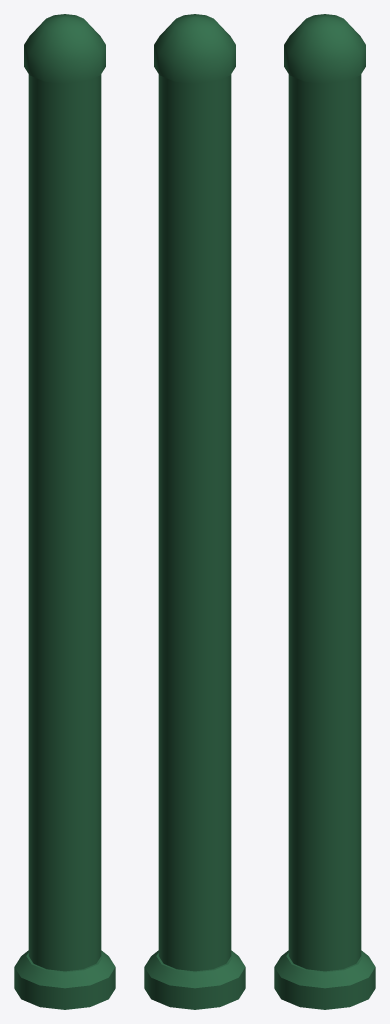
Rendered from pedestrian_railing_endpost_green.fbx.
3 views of the same model, side by side, from view 1: azimuth 90°, elevation 25°; view 2: azimuth 150°, elevation 25°; view 3: azimuth 270°, elevation 25° (orthographic).
Visible parts, largest first — view 1: pedestrian_railing_endpost_green; view 2: pedestrian_railing_endpost_green; view 3: pedestrian_railing_endpost_green.
Boxes of the visible parts, x1=… form: pedestrian_railing_endpost_green: x1=14, y1=14, x2=115, y2=1009; pedestrian_railing_endpost_green: x1=144, y1=14, x2=245, y2=1009; pedestrian_railing_endpost_green: x1=274, y1=14, x2=375, y2=1009.
Bounding box in the file's own units: 0.0846 × 0.895 × 0.0846.
